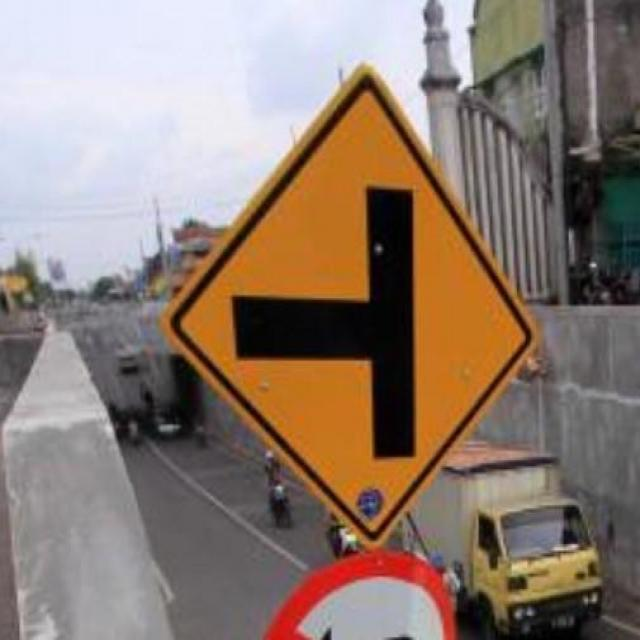traffic sign: (193, 87, 530, 532)
